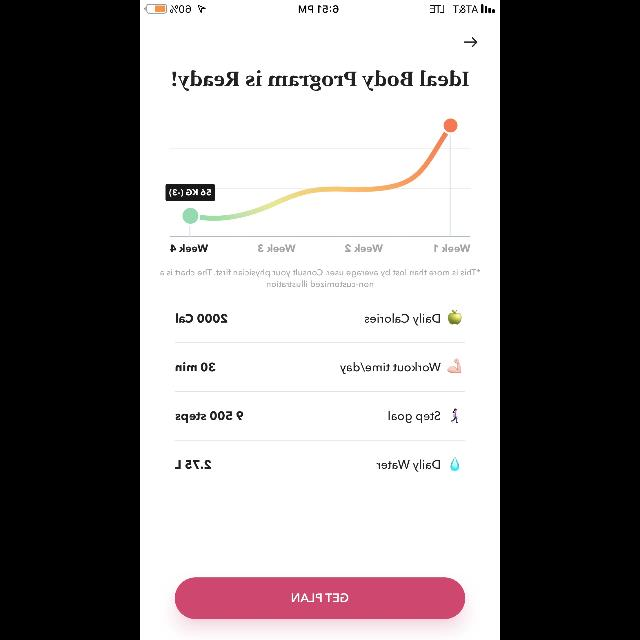icon: (464, 38, 476, 48)
image: (166, 119, 470, 238), (447, 358, 461, 374), (447, 310, 461, 324), (450, 408, 458, 424), (449, 457, 458, 471)
text: (172, 70, 468, 92), (160, 268, 480, 288), (340, 362, 440, 374), (364, 314, 440, 326), (175, 411, 243, 423), (376, 460, 439, 472), (388, 411, 440, 423), (176, 314, 228, 322), (175, 362, 215, 372), (175, 459, 211, 468), (345, 244, 383, 252), (258, 244, 296, 252), (170, 244, 208, 252), (434, 244, 470, 252)
textbutton: (175, 577, 465, 619)
uppertaskbar: (140, 0, 500, 14)
